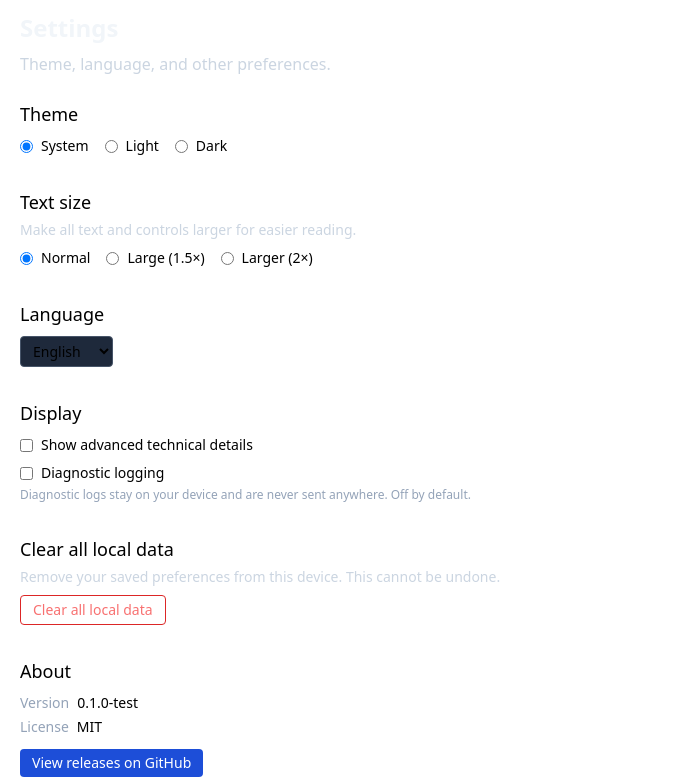
Settings page (§22.11 / US-054) › switches languages, rerenders translated labels, and persists the locale
This screenshot has width=698, height=780.
Select "Español" in the dropdown named "Language": (66, 352) top-left (20, 336), bottom-right (113, 367)
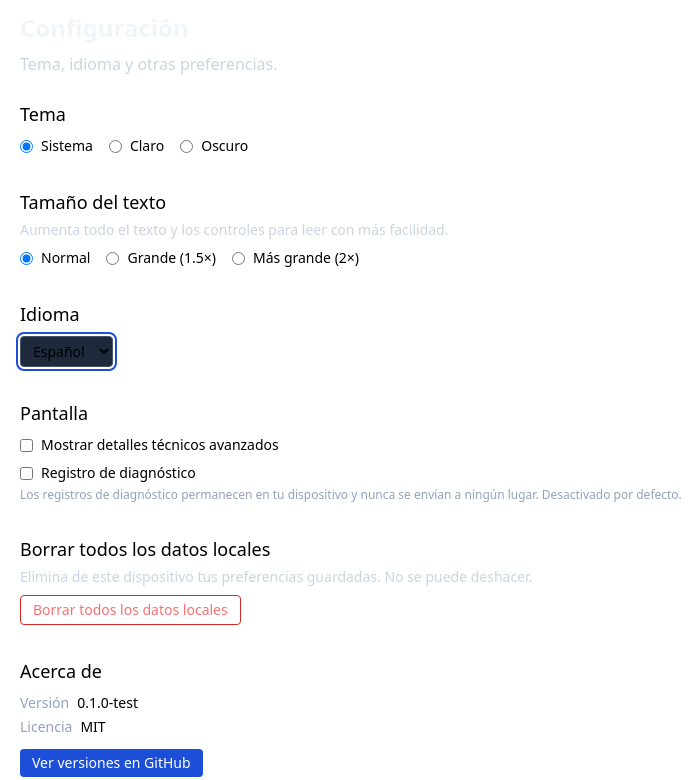
Result: the heading "Tema" is shown at top-left (20, 102), bottom-right (66, 126)
